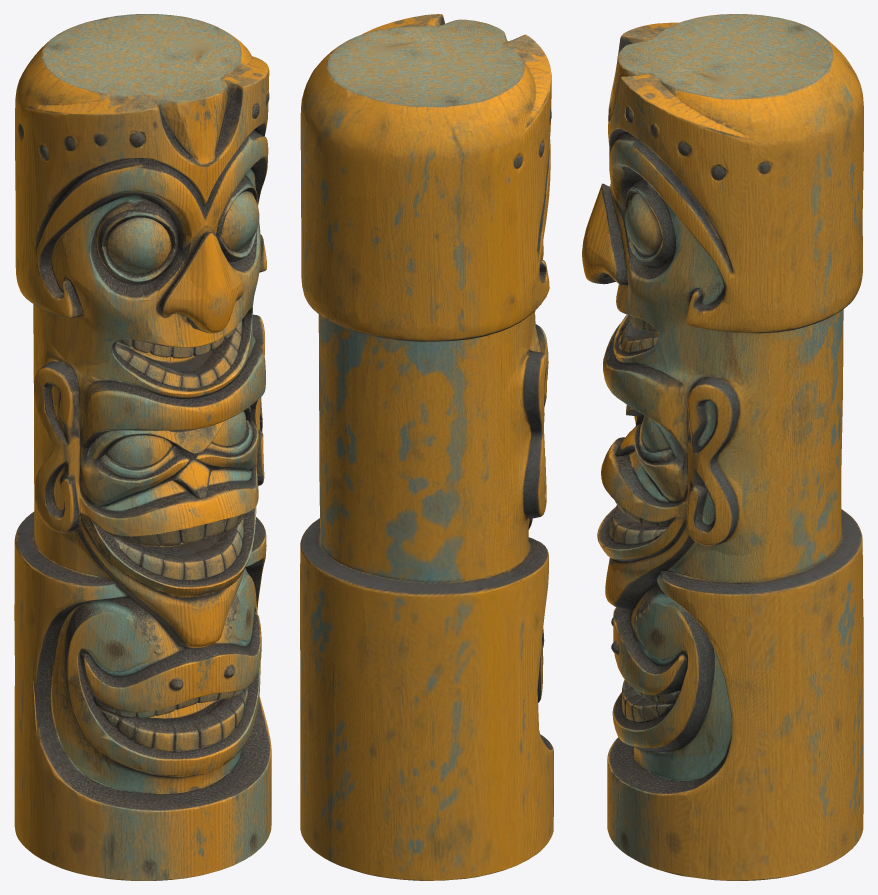
File: totem_tiki.glb
The picture shows the model from 3 angles, left to right: view 1: azimuth 30°, elevation 25°; view 2: azimuth 150°, elevation 25°; view 3: azimuth 270°, elevation 25°; orthographic projection.
Bounding box in the file's own units: 0.5745 × 1.9 × 0.6303.
1 material, 1 textured.
